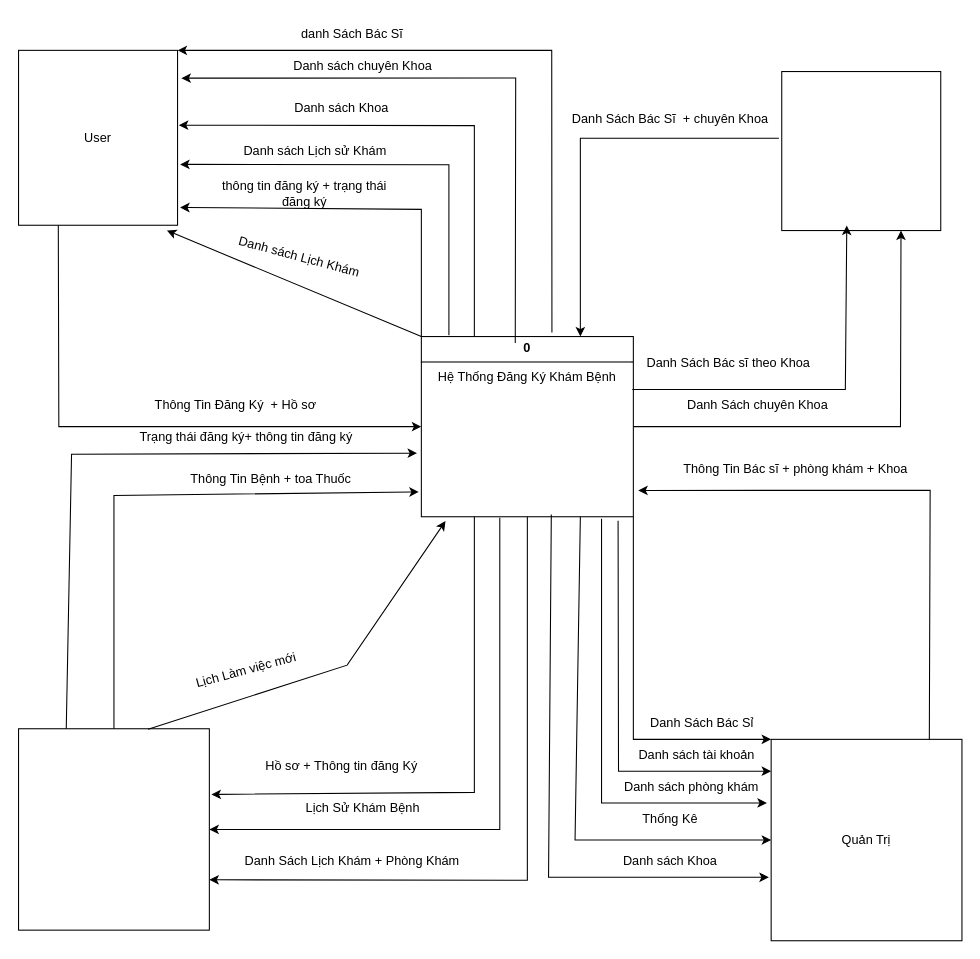
Image size: 980x959. Some labels were removed from this diagram. Each missing label, with the box of its shape:
Bác sĩ: (17, 728, 209, 930)
Trưởng Khoa: (781, 70, 941, 231)
